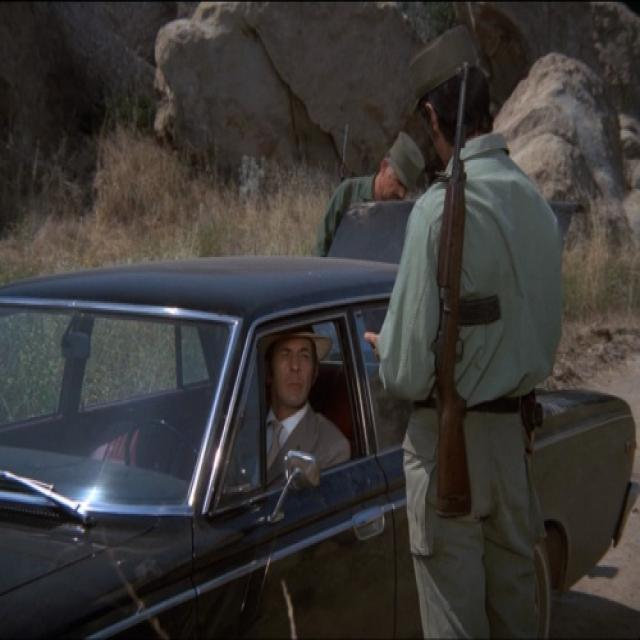rifle: (427, 63, 502, 526)
